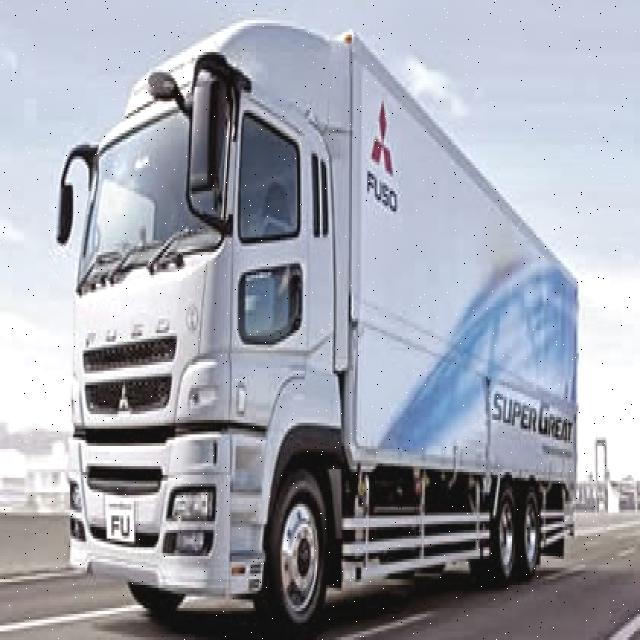truck: (54, 12, 578, 626)
